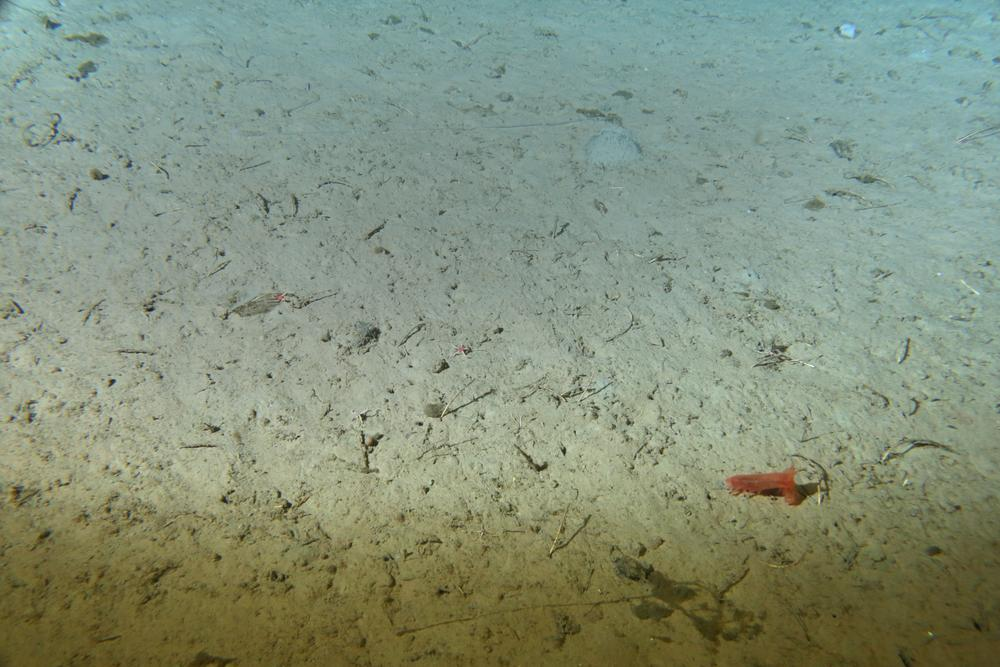PENIAGONE_SP_A: (722, 462, 809, 509)
